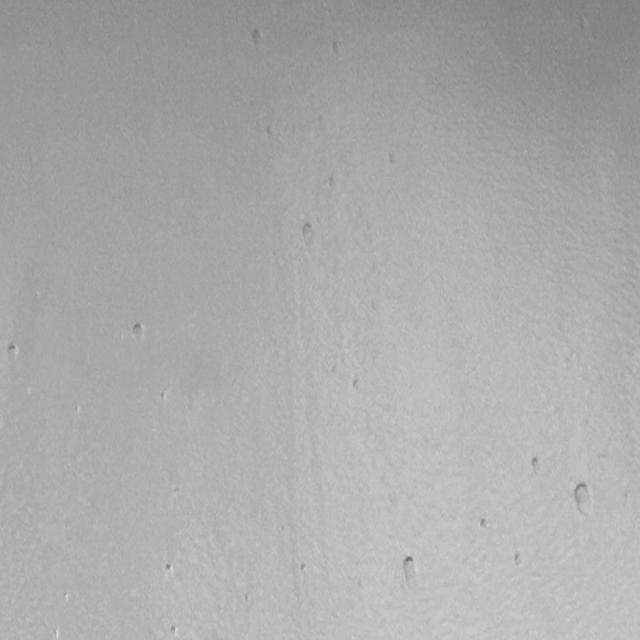pin holes: (570, 481, 595, 516), (400, 554, 422, 586), (297, 220, 318, 247), (246, 27, 267, 52), (529, 453, 548, 478), (128, 322, 147, 346), (324, 173, 343, 196), (6, 341, 23, 363), (511, 549, 528, 570), (349, 375, 364, 393), (478, 514, 494, 530), (162, 562, 175, 580), (158, 392, 170, 406), (169, 623, 180, 638), (61, 590, 72, 605)
